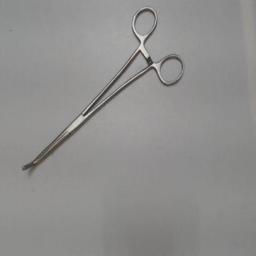Lahey Forceps: (17, 2, 189, 182)
